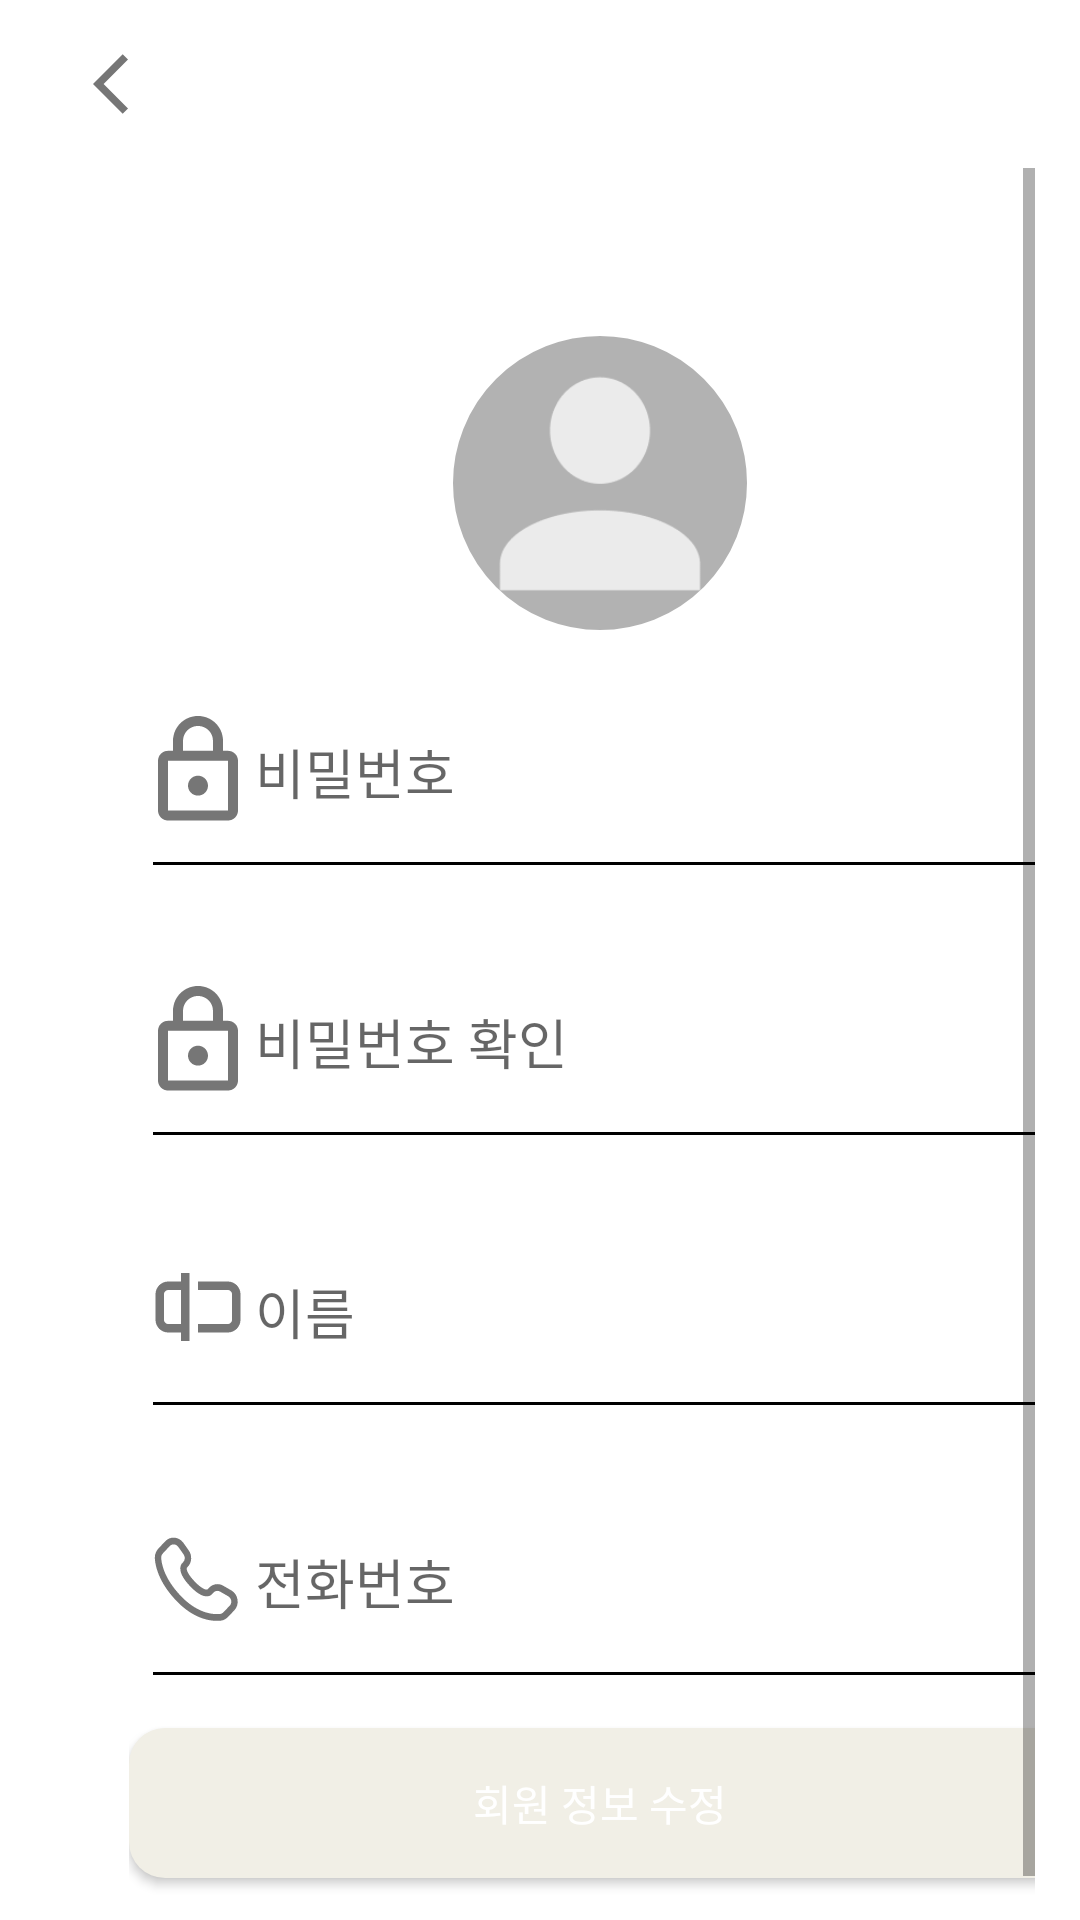

Locate icon controls on the screen. Image size 1080×1920, boxes as (x1, y1, x2, y2).
profile: (453, 336, 747, 630)
